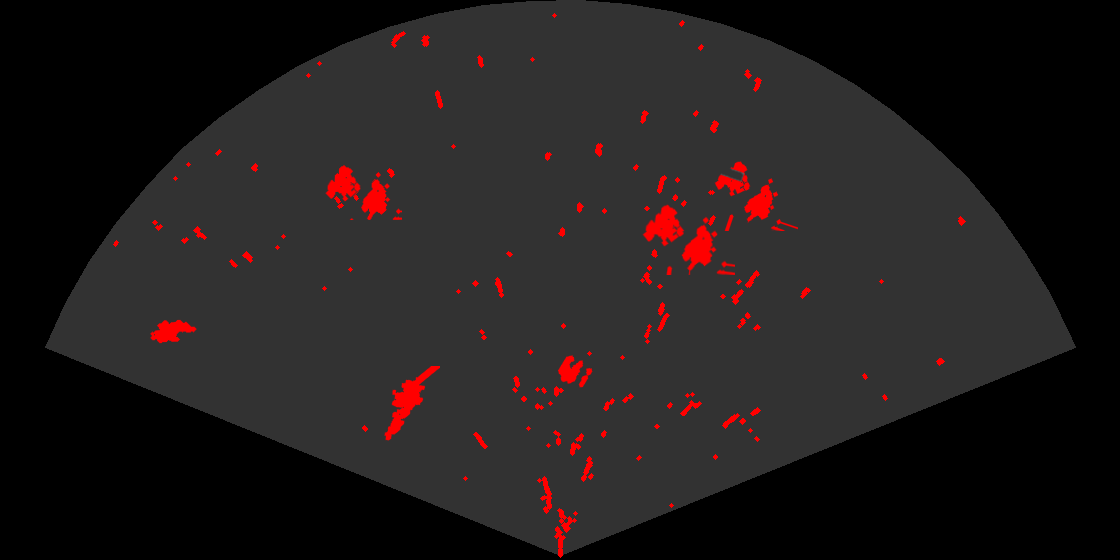AUV: (149, 318, 198, 345)
ball: (556, 354, 594, 389)
cage: (641, 203, 735, 275), (713, 160, 798, 231), (324, 164, 402, 220)
frogman: (383, 366, 440, 442)
